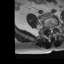CCS_normal: (50, 25, 52, 34)
LFS_normal: (53, 24, 55, 30)
LLS_normal: (52, 25, 53, 31)
RFS_stenosis: (47, 26, 48, 31)
RLS_stenosis: (48, 26, 50, 31)
